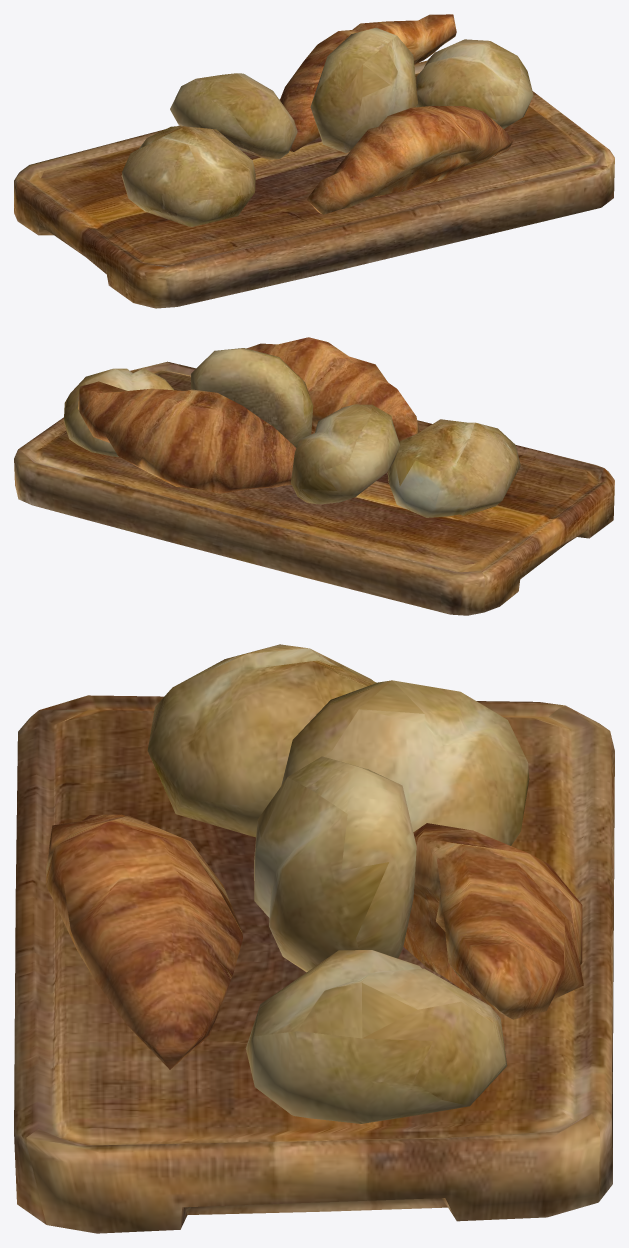
Rendered from BreadBoard.glb.
3 views of the same model, one above another, from view 1: azimuth 30°, elevation 25°; view 2: azimuth 150°, elevation 25°; view 3: azimuth 270°, elevation 25° (orthographic). The views are drawn at different scales.
Parts seen in each view (by area): view 1: BreadBoard; view 2: BreadBoard; view 3: BreadBoard.
Part boxes in pixels (bbox=[...]): BreadBoard: bbox=[14, 14, 614, 308]; BreadBoard: bbox=[14, 337, 614, 615]; BreadBoard: bbox=[14, 644, 614, 1233].
Bounding box in the file's own units: 0.4497 × 0.1346 × 0.2466.
Materials: 3 (3 with a texture image).
